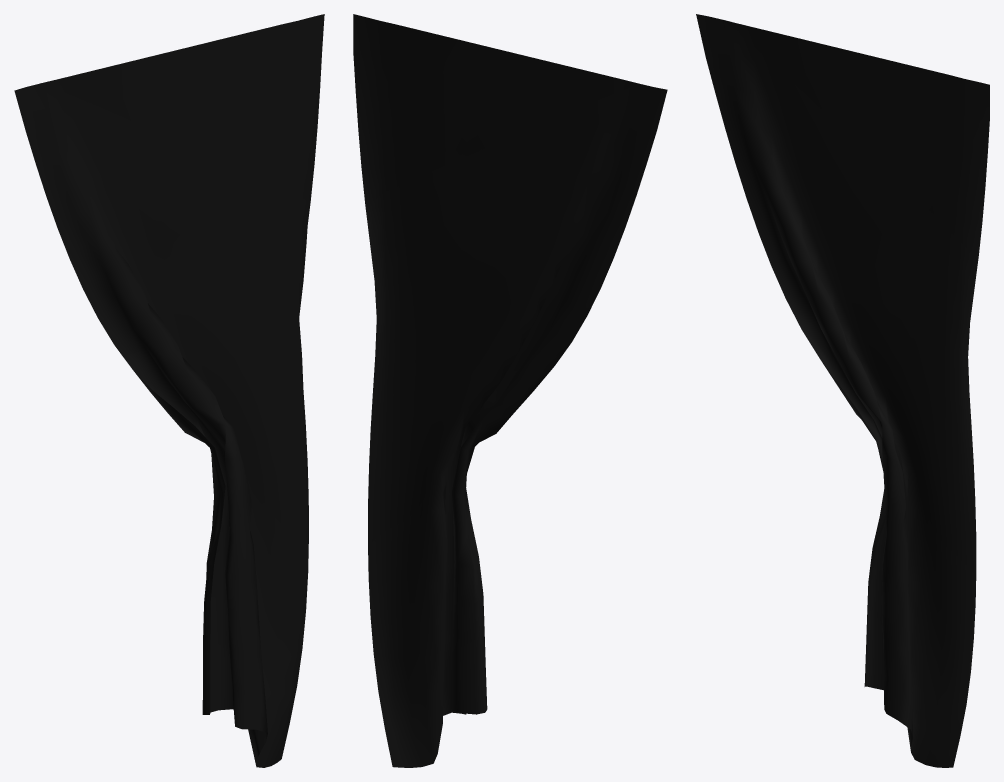
3 renders of one model, left to right at view 1: azimuth 30°, elevation 25°; view 2: azimuth 150°, elevation 25°; view 3: azimuth 330°, elevation 25°, orthographic. The views are drawn at different scales.
Visible parts, largest first — view 1: CurtainRightBlack; view 2: CurtainRightBlack; view 3: CurtainRightBlack.
Boxes of the visible parts, x1=… form: CurtainRightBlack: x1=14, y1=14, x2=324, y2=767; CurtainRightBlack: x1=353, y1=14, x2=667, y2=767; CurtainRightBlack: x1=696, y1=14, x2=989, y2=767.
Size of the model in its own units: 0.874 by 1.98 by 0.0844.
Materials: 1 (1 with a texture image).
